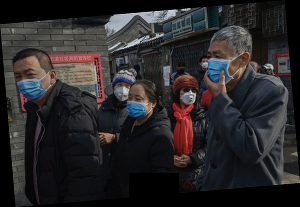with_mask: (208, 46, 241, 86), (15, 65, 49, 101), (125, 91, 150, 120), (113, 82, 132, 101), (178, 86, 197, 105), (201, 60, 210, 69), (178, 67, 186, 74)
